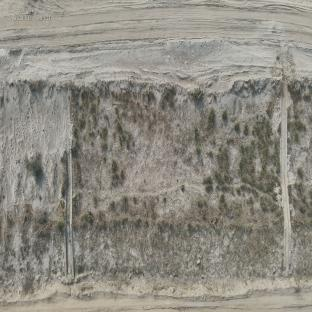rock_toe: (75, 222, 284, 274), (1, 225, 64, 290)
slope_drain: (280, 79, 291, 271), (64, 151, 74, 280)
toe_drain: (1, 288, 312, 312)
